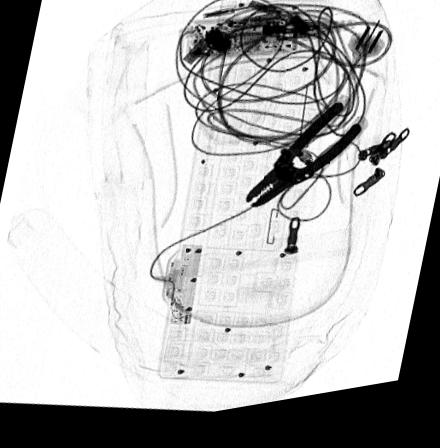Pliers: (243, 113, 360, 219)
